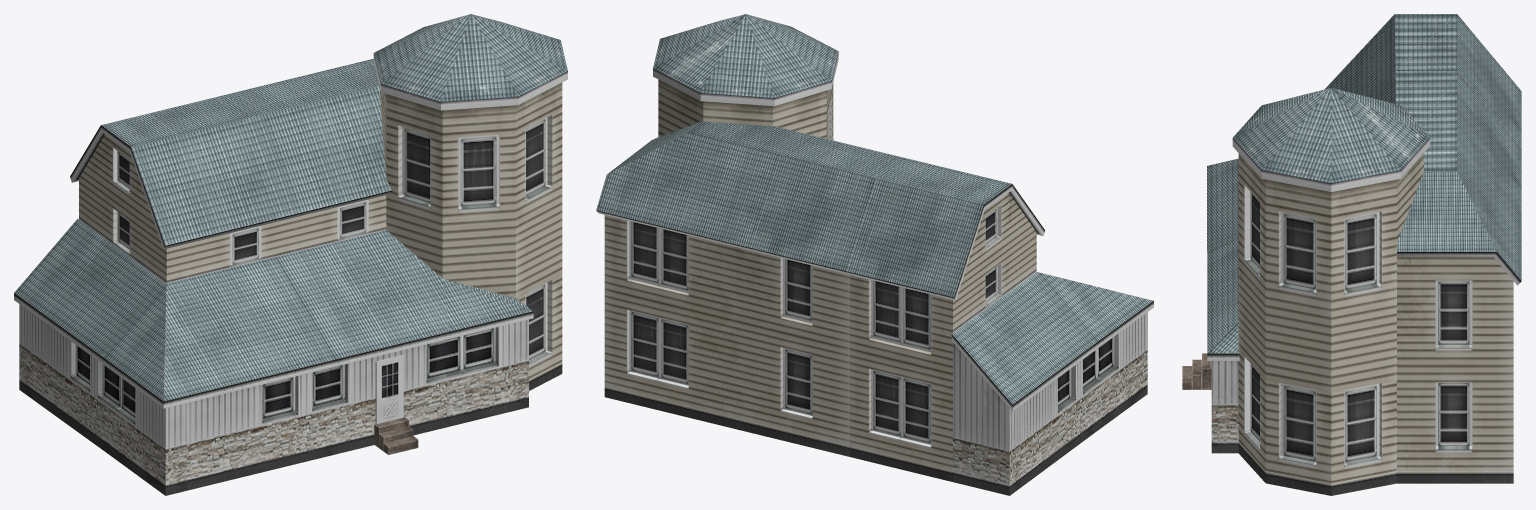
Rendered from juminlou.gltf.
3 views of the same model, side by side, from view 1: azimuth 30°, elevation 25°; view 2: azimuth 150°, elevation 25°; view 3: azimuth 270°, elevation 25° (orthographic). The views are drawn at different scales.
Parts seen in each view (by area): view 1: AM_131_building_obj_191; view 2: AM_131_building_obj_191; view 3: AM_131_building_obj_191.
Boxes of the visible parts, <box> form: AM_131_building_obj_191: <box>14,14,567,495</box>; AM_131_building_obj_191: <box>596,14,1153,495</box>; AM_131_building_obj_191: <box>1182,14,1521,495</box>.
Size of the model in its own units: 15.95 by 11.7 by 9.84.
Materials: 1 (1 with a texture image).
